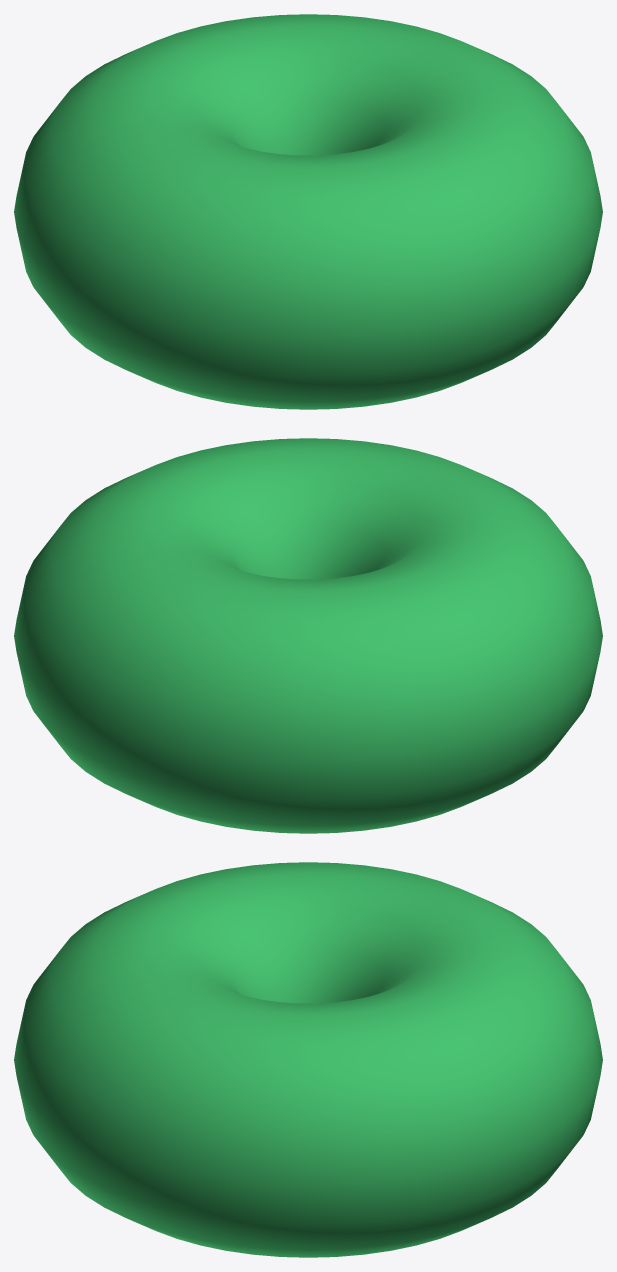
File: zatacka.glb
3 views of the same model, one above another, from view 1: azimuth 30°, elevation 25°; view 2: azimuth 150°, elevation 25°; view 3: azimuth 270°, elevation 25° (orthographic).
Visible parts, largest first — view 1: had_zatacka_m; view 2: had_zatacka_m; view 3: had_zatacka_m.
Boxes of the visible parts, left/top/right/bottom form: had_zatacka_m: left=14, top=14, right=602, bottom=409; had_zatacka_m: left=14, top=438, right=602, bottom=833; had_zatacka_m: left=14, top=862, right=602, bottom=1257.
Size of the model in its own units: 1.76 by 0.7599 by 1.76.
